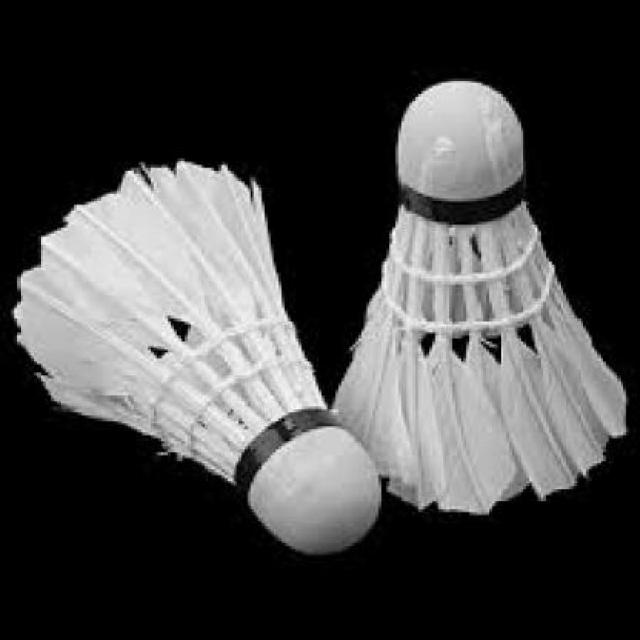Shuttlecock: (9, 72, 629, 552)
